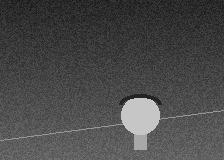no_helmet: (121, 94, 159, 139)
